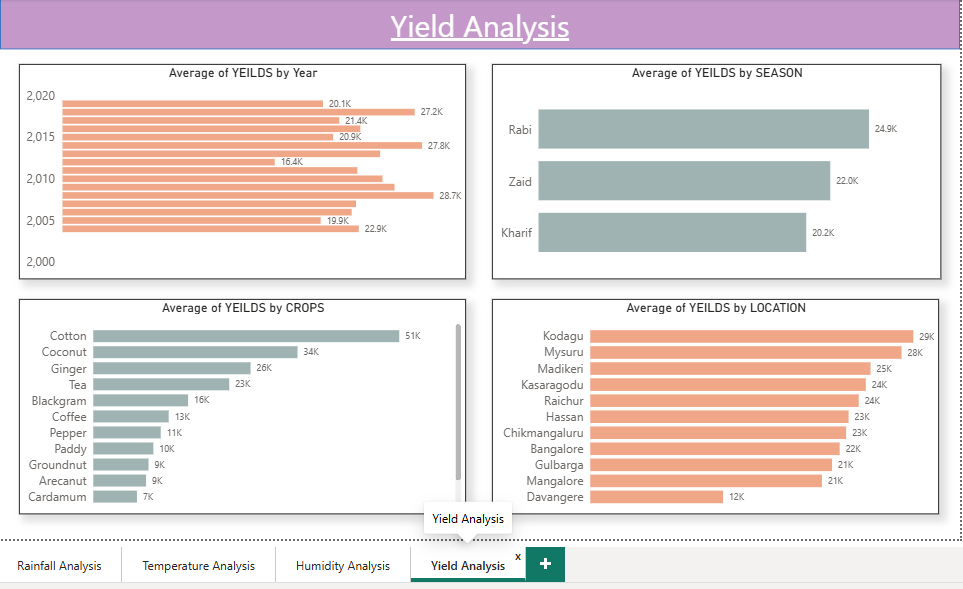

The page's visual inventory and layout, read from the dashboard file:
{"tool":"powerbi","page":{"name":"Yield Analysis","canvas":[1280,720],"ordinal":3},"visuals":[{"type":"shape","box":[0,0,1280,67.1],"z":0},{"type":"barChart","fields":{"Category":["AGRICULTURE.YEAR"],"Y":["Avg(AGRICULTURE.YEILDS)"]},"box":[25.7,87.1,595.7,287.1],"z":1000},{"type":"barChart","fields":{"Category":["AGRICULTURE.SEASON"],"Y":["Avg(AGRICULTURE.YEILDS)"]},"box":[655.7,87.1,598.6,287.1],"z":2000},{"type":"barChart","fields":{"Category":["AGRICULTURE.CROPS"],"Y":["Avg(AGRICULTURE.YEILDS)"]},"box":[25.7,400,595.7,287.1],"z":3000},{"type":"barChart","fields":{"Category":["AGRICULTURE.LOCATION"],"Y":["Avg(AGRICULTURE.YEILDS)"]},"box":[655.7,400,595.7,287.1],"z":4000}]}

Visuals, with their boxes on the page's 1280x720 design canvas (x1, y1, x2, y2). These are canvas units, not pixel positions in the 963x589 screenshot, which may show the page scaled, cropped or inside an application window:
shape: {"left": 0, "top": 0, "right": 1280, "bottom": 67}
barChart - AGRICULTURE.YEAR x Avg(AGRICULTURE.YEILDS): {"left": 26, "top": 87, "right": 621, "bottom": 374}
barChart - AGRICULTURE.SEASON x Avg(AGRICULTURE.YEILDS): {"left": 656, "top": 87, "right": 1254, "bottom": 374}
barChart - AGRICULTURE.CROPS x Avg(AGRICULTURE.YEILDS): {"left": 26, "top": 400, "right": 621, "bottom": 687}
barChart - AGRICULTURE.LOCATION x Avg(AGRICULTURE.YEILDS): {"left": 656, "top": 400, "right": 1251, "bottom": 687}
